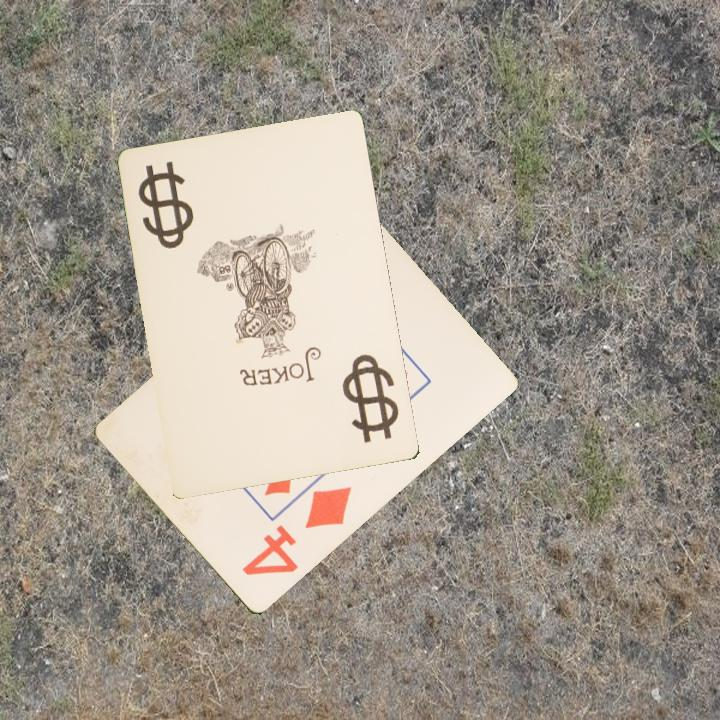4d: (238, 483, 355, 580)
JK: (135, 158, 190, 252), (353, 357, 397, 430)
